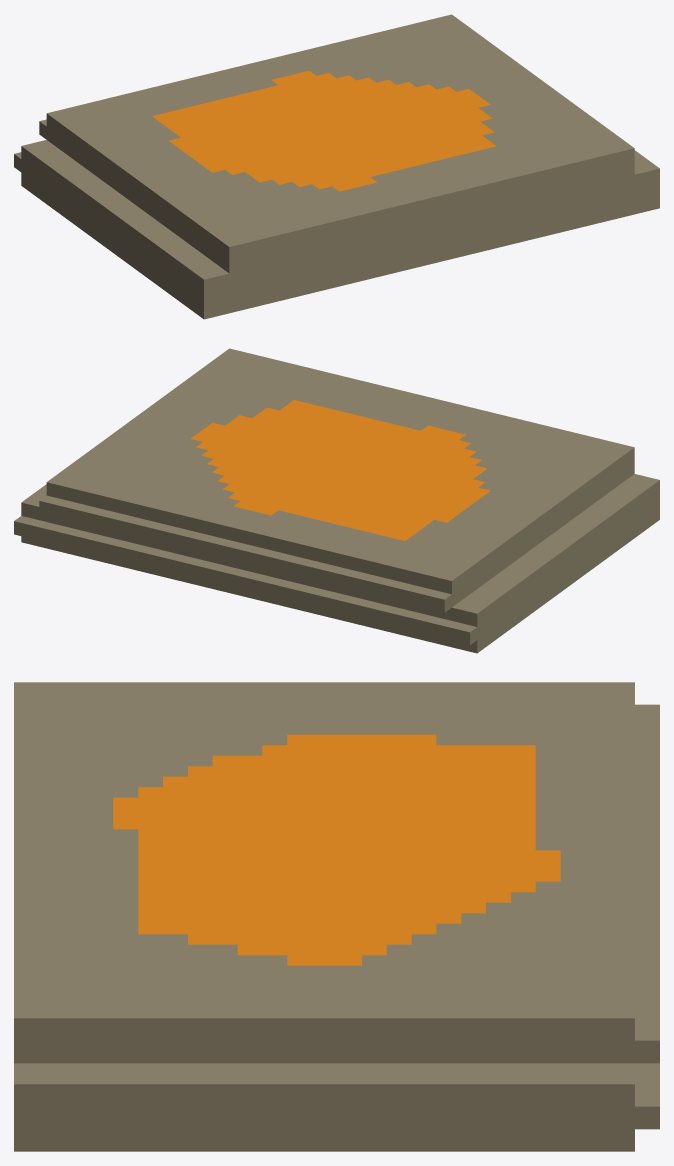
Rendered from disinrag.glb.
The picture shows the model from 3 angles, top to bottom: view 1: azimuth 30°, elevation 25°; view 2: azimuth 150°, elevation 25°; view 3: azimuth 270°, elevation 25°; orthographic projection. The views are drawn at different scales.
Parts seen in each view (by area): view 1: disinrag:compound; view 2: disinrag:compound; view 3: disinrag:compound.
Boxes of the visible parts, left/top/right/bottom form: disinrag:compound: left=14, top=14, right=659, bottom=319; disinrag:compound: left=14, top=348, right=659, bottom=653; disinrag:compound: left=14, top=682, right=659, bottom=1151.
Size of the model in its own units: 0.144 by 0.02 by 0.104.
